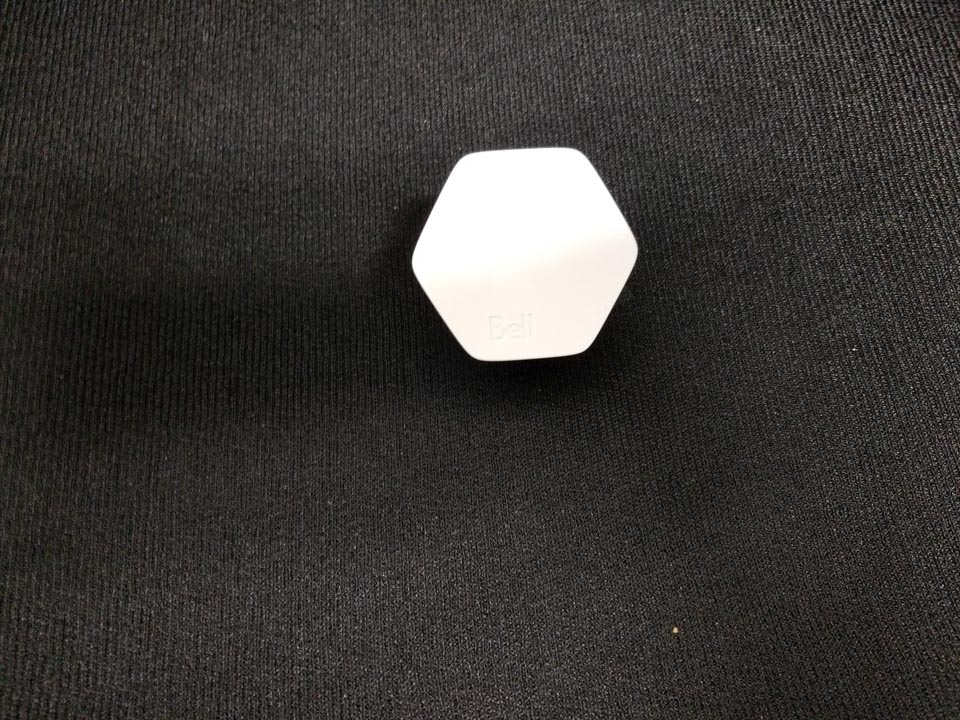pod: (403, 141, 644, 368)
